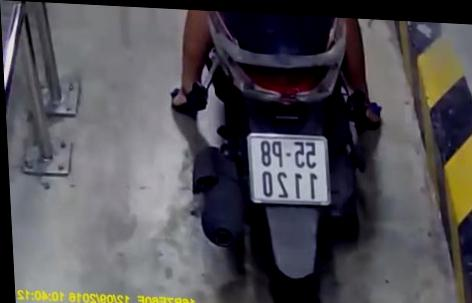License_Plate: (244, 128, 335, 215)
